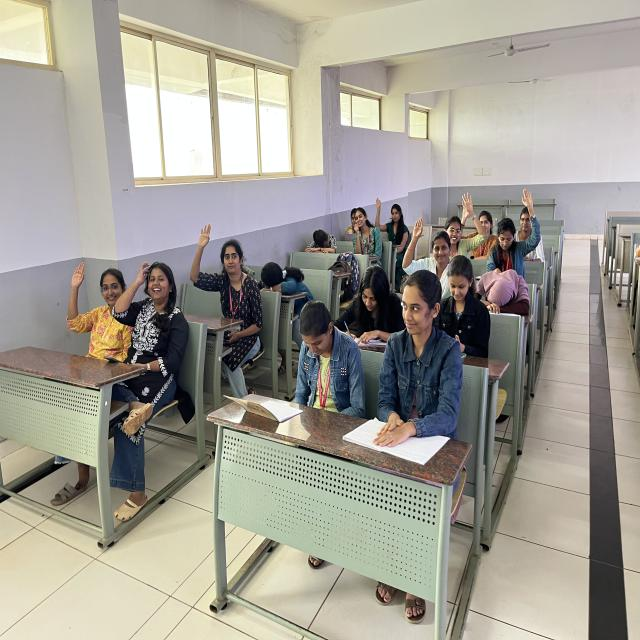Hand Rising: (175, 214, 262, 348), (54, 244, 140, 376), (479, 181, 540, 270), (397, 215, 458, 282), (448, 182, 490, 260), (368, 186, 412, 254), (464, 179, 502, 257)
Sleeping: (474, 243, 543, 335), (253, 238, 317, 326), (300, 221, 349, 269)
Writing: (337, 249, 405, 355)
